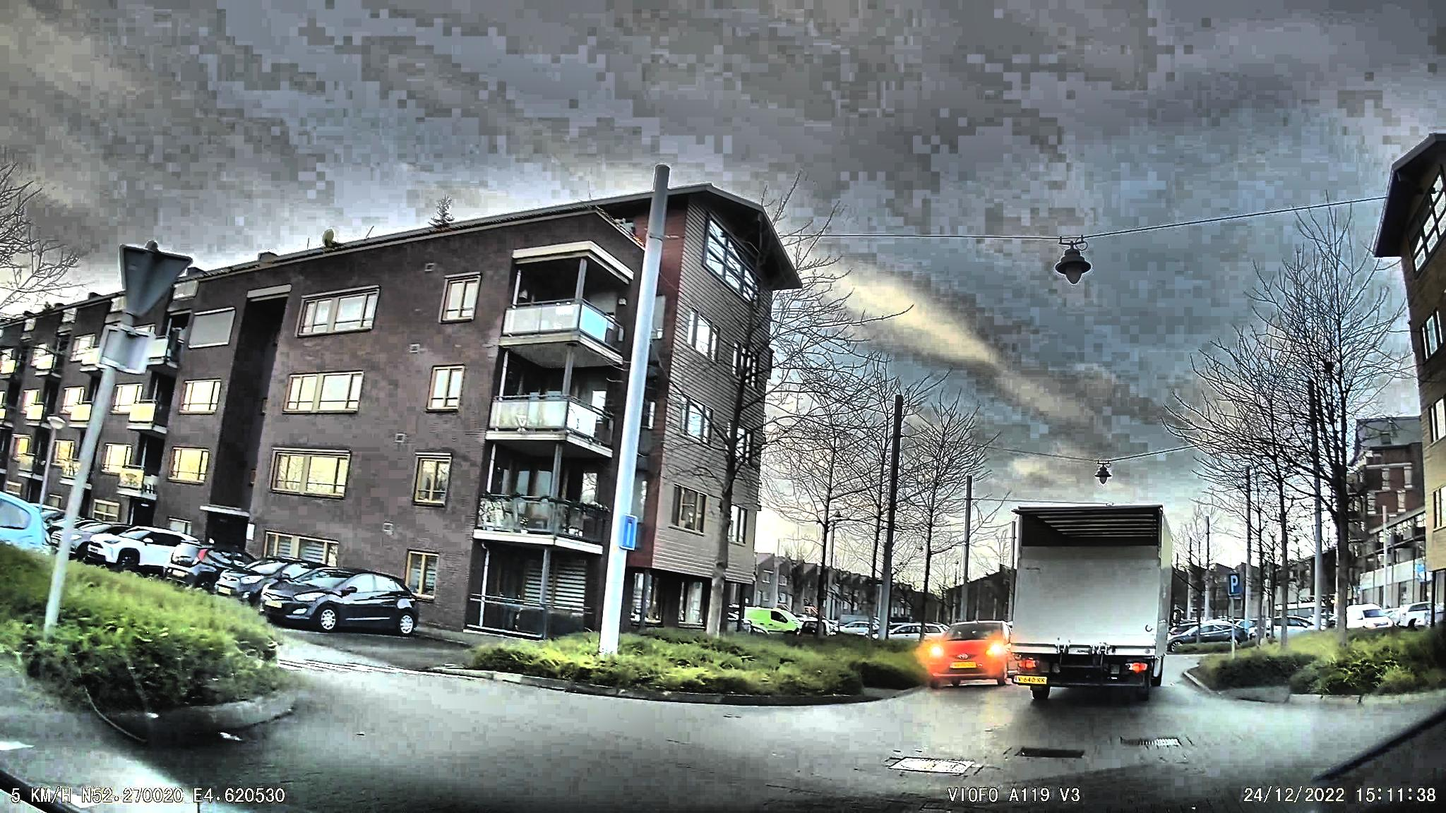Roads: (0, 657, 1446, 813)
